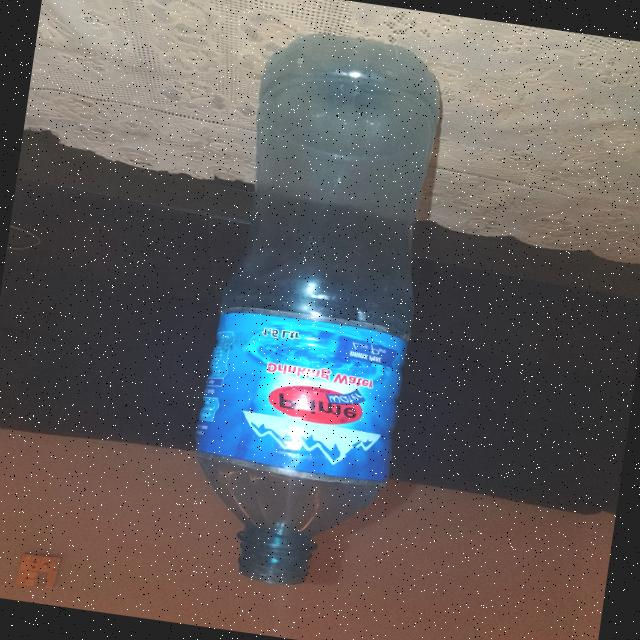bottle: (170, 19, 470, 620)
label: (198, 296, 414, 492)
